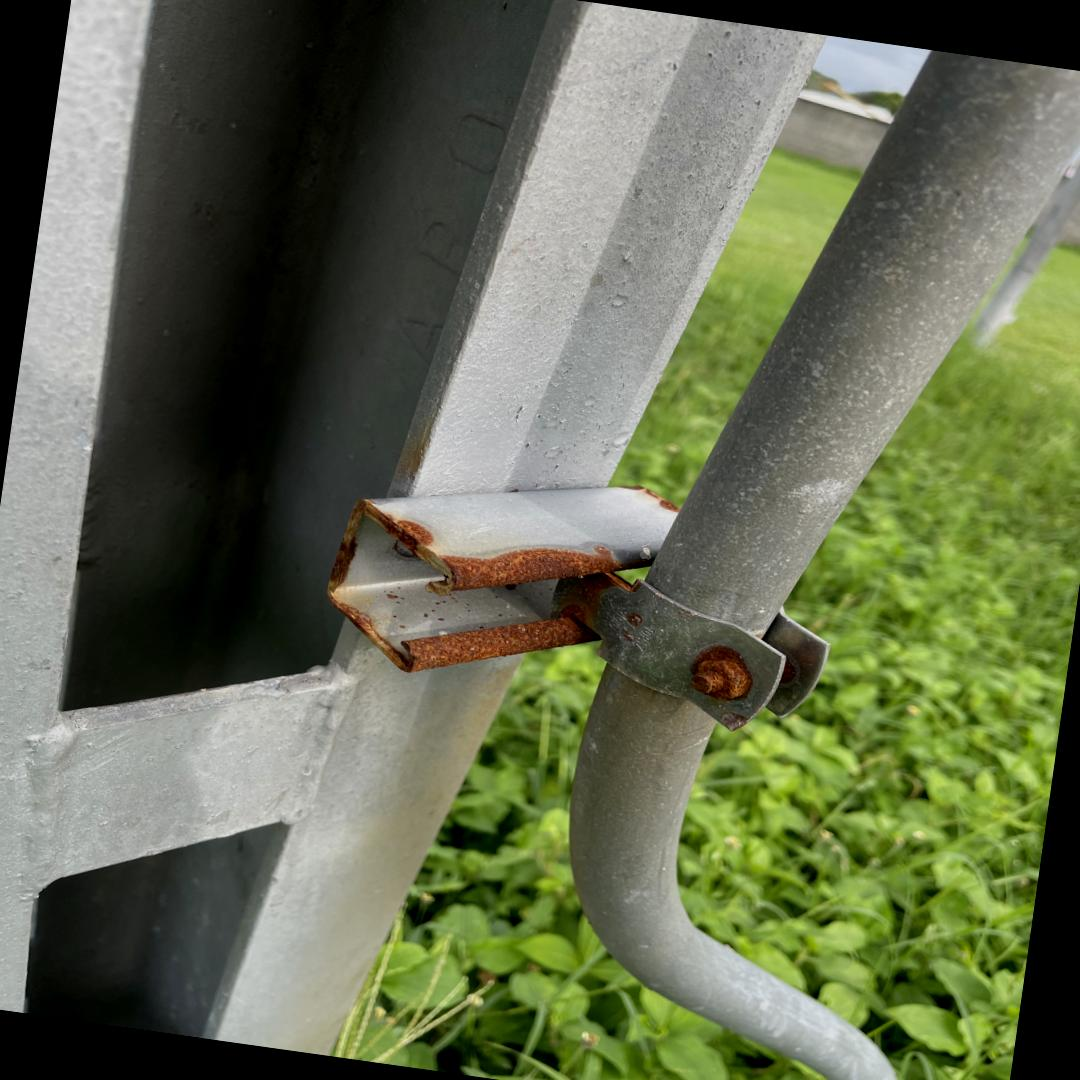Metal corroido: (327, 499, 650, 673), (692, 646, 755, 700), (622, 484, 680, 513), (780, 658, 796, 681)
